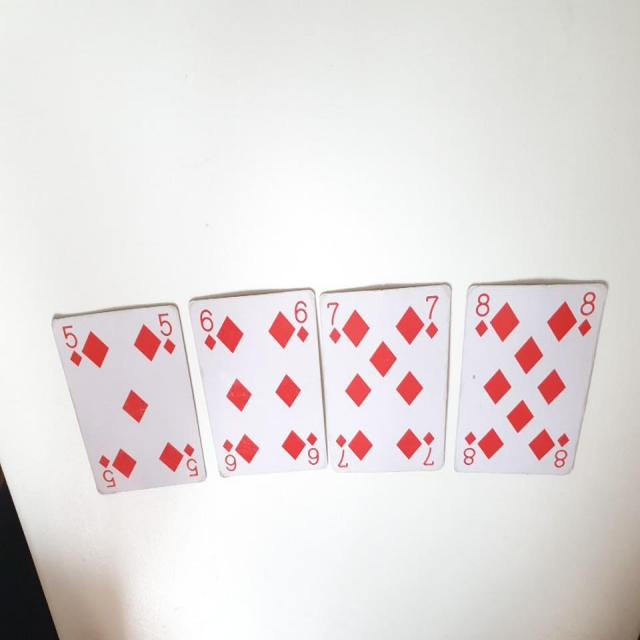5 Diamonds: (47, 301, 210, 498)
6 Diamonds: (187, 286, 326, 479)
7 Diamonds: (318, 278, 452, 476)
8 Diamonds: (455, 280, 609, 480)
